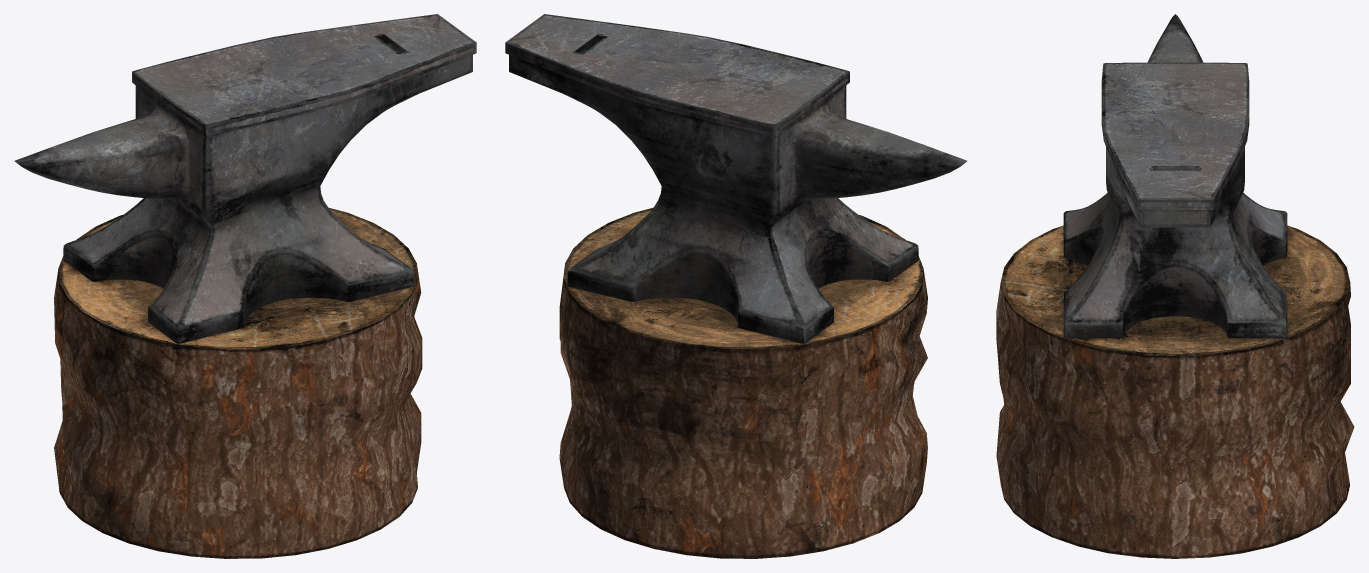
File: anvil.glb
3 renders of one model, left to right at view 1: azimuth 30°, elevation 25°; view 2: azimuth 150°, elevation 25°; view 3: azimuth 270°, elevation 25°, orthographic. The views are drawn at different scales.
Parts seen in each view (by area): view 1: anvil; view 2: anvil; view 3: anvil.
Boxes of the visible parts, box(x1,y1,x2,y2) form: anvil: box(14, 14, 476, 558); anvil: box(505, 14, 967, 558); anvil: box(996, 14, 1354, 558).
Bounding box in the file's own units: 1 × 0.8657 × 0.722.
1 material, 1 textured.
